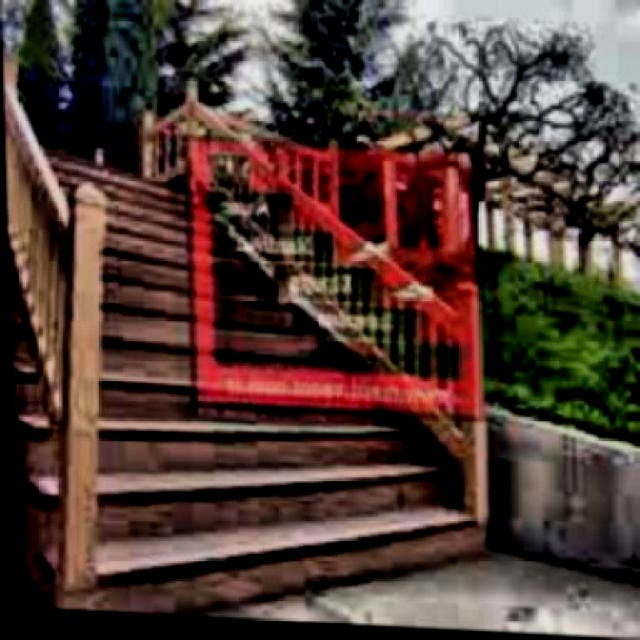stair: (6, 121, 460, 595)
